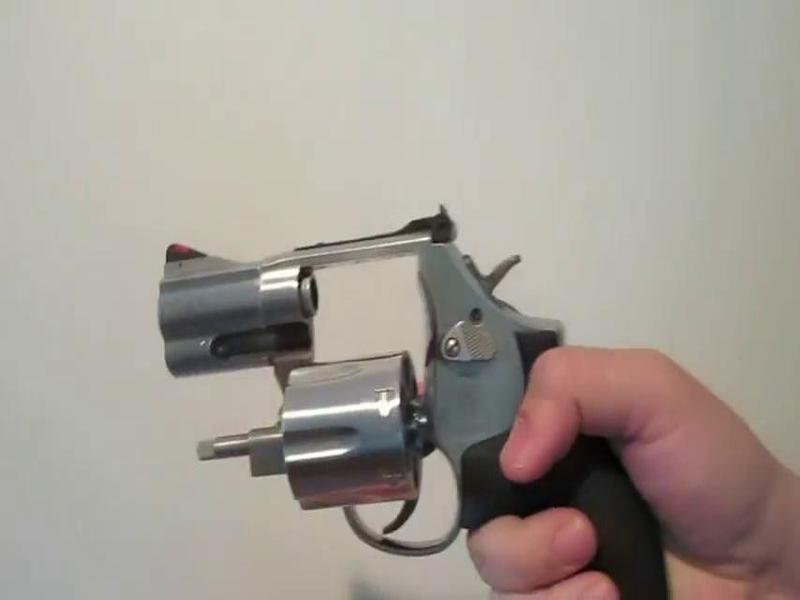Revolver: (147, 195, 709, 600)
